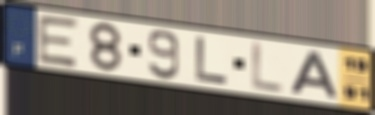8: (86, 20, 126, 74)
9: (146, 29, 181, 80)
A: (288, 49, 342, 102)
E: (35, 13, 82, 70)
L: (249, 39, 286, 96), (194, 34, 231, 88)
